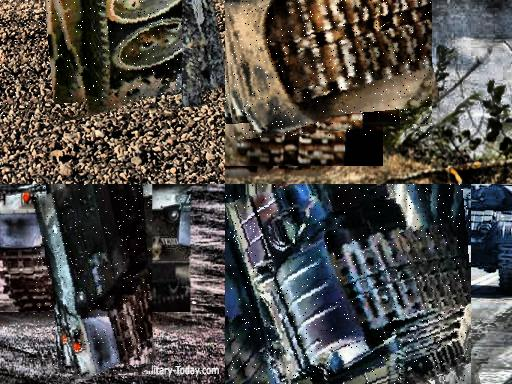tanks: (226, 185, 471, 384), (226, 1, 433, 139), (35, 185, 153, 379), (51, 1, 183, 117), (421, 185, 512, 295)
